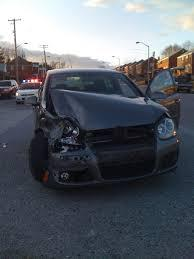Headlight-Damage: (48, 133, 93, 159)
front-bumper-dent: (46, 87, 105, 131)
